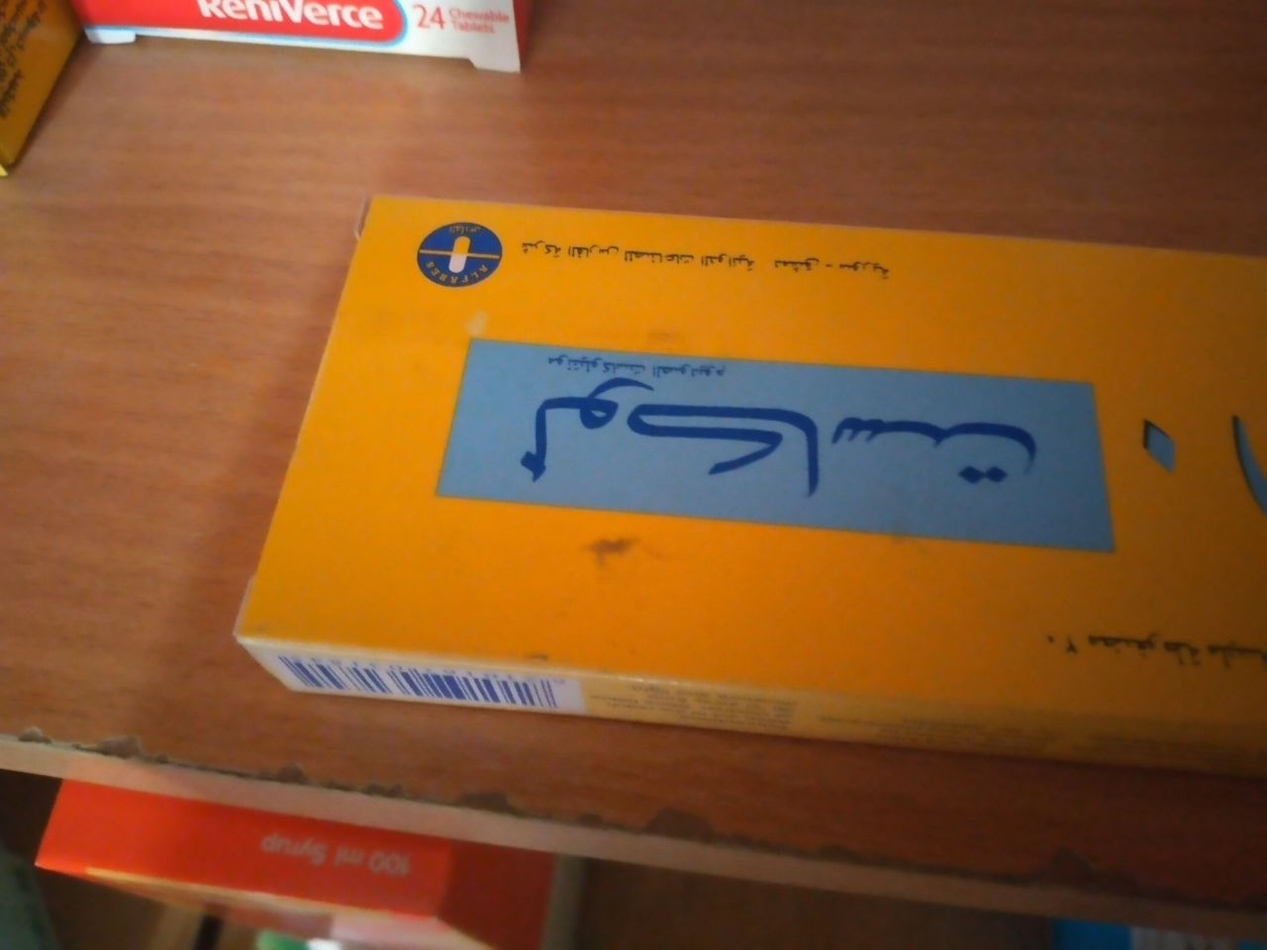Medicine: (243, 176, 1267, 807)
